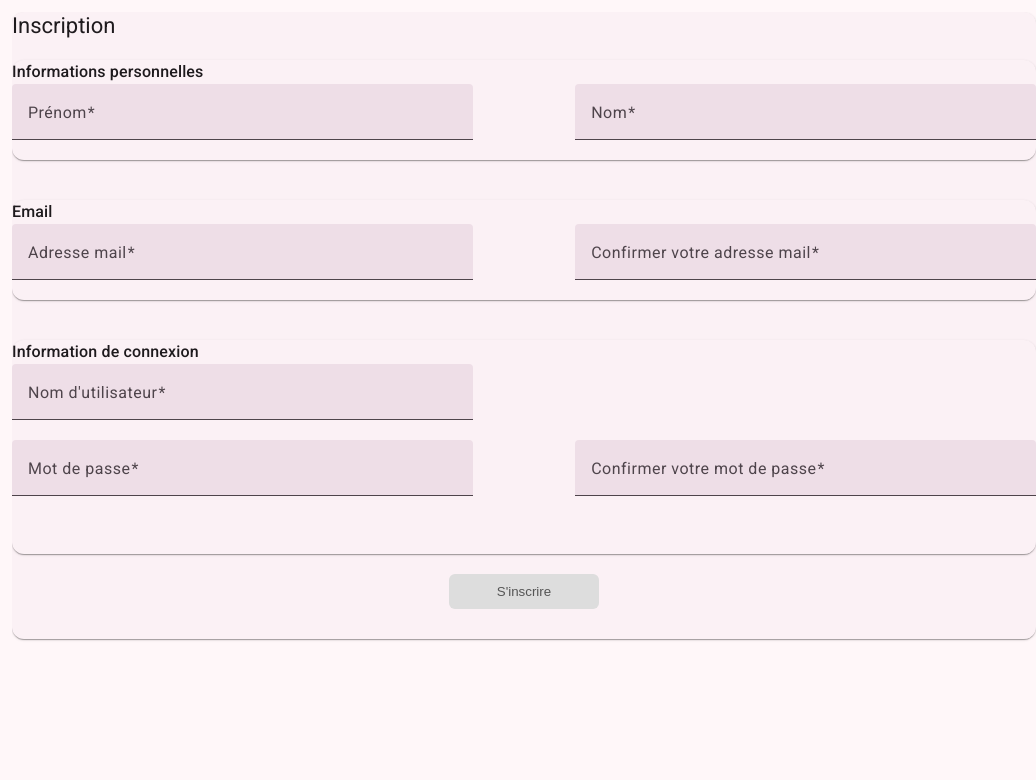
Test: Sign-InComponent › Formulaire d'inscription › la confirmartion de l'adresse email doit correspondre
This screenshot has width=1036, height=780.
Type "toto@tata.titi" into the field labelled "Adresse mail" at (242, 260), box [28,248,457,272]
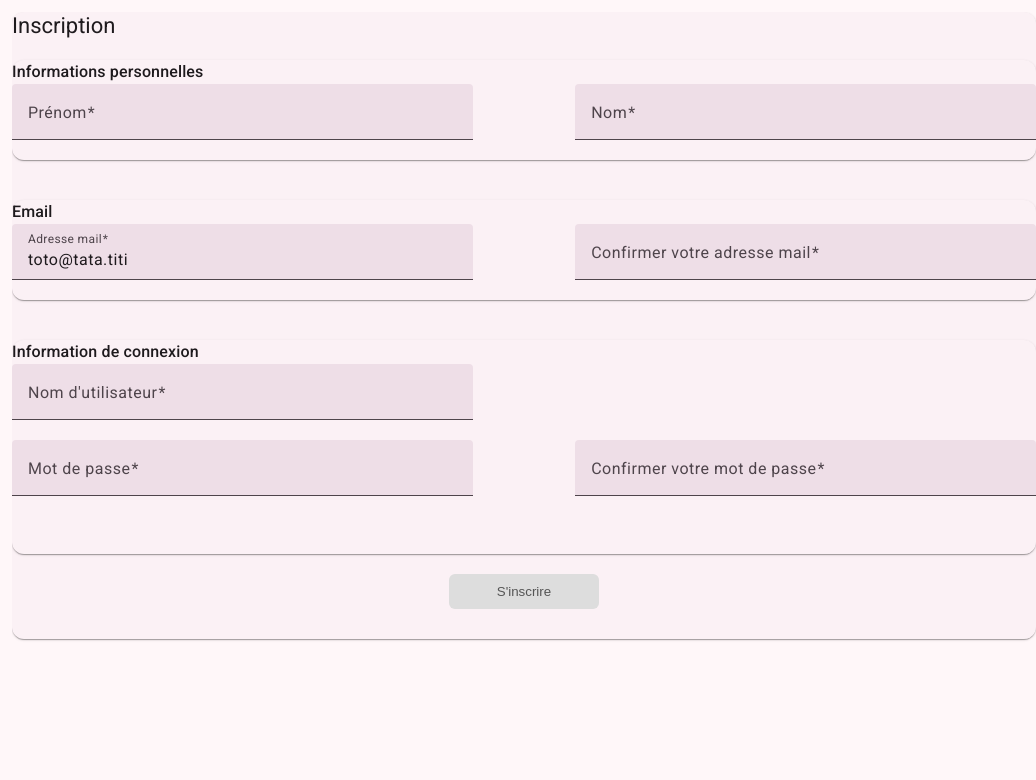
Type "tutu@tata.titi" into the field labelled "Confirmer votre adresse mail" at (806, 260), box [591,248,1020,272]
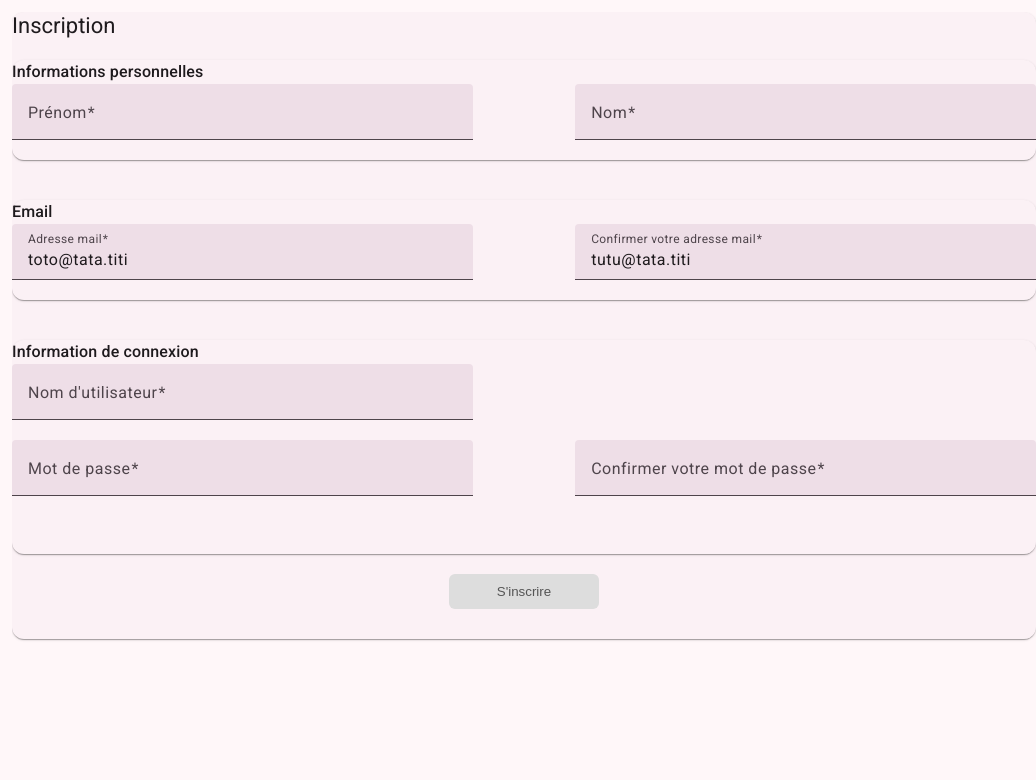
Leave the field labelled "Confirmer votre adresse mail", box [591,248,1020,272]
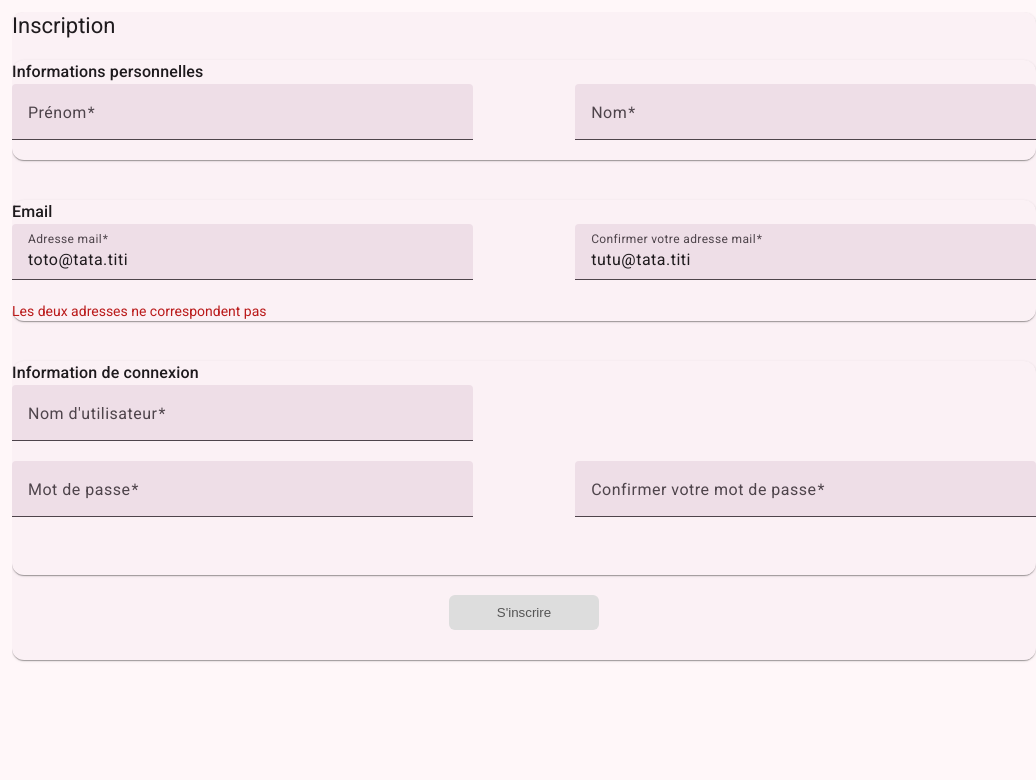
expect the text "Les deux adresses ne correspondent pas" is shown: met, box [12,303,267,319]
